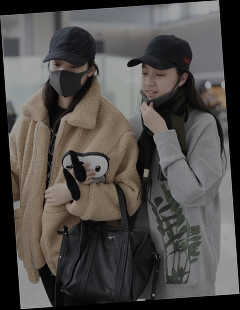mask_weared_incorrect: (141, 60, 181, 103)
with_mask: (48, 60, 90, 97)
